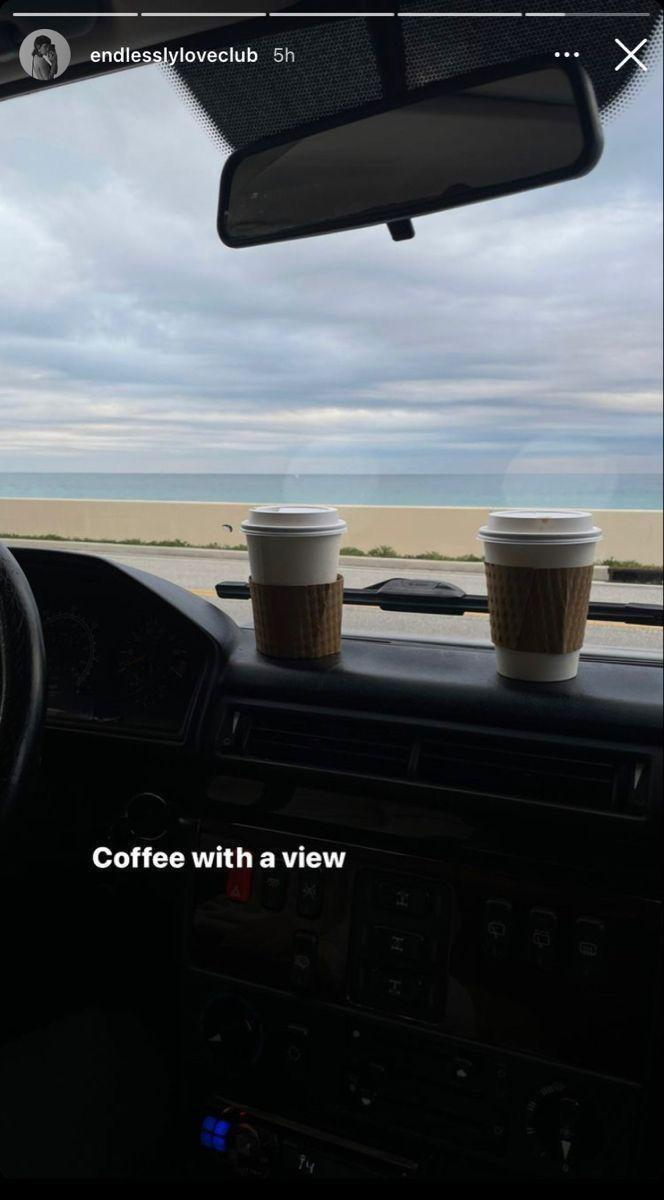cup-disposable: (235, 499, 361, 674), (477, 508, 603, 683)
